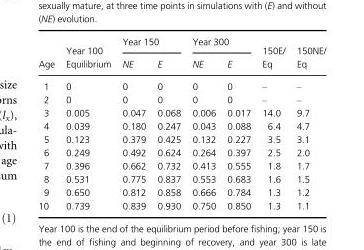table: (37, 36, 325, 210)
table column: (59, 36, 116, 210), (116, 36, 151, 210), (185, 36, 220, 210), (220, 36, 255, 210), (255, 36, 290, 210), (290, 36, 325, 210), (151, 36, 185, 210), (37, 36, 59, 210)
table column header: (37, 36, 325, 74)
table row: (37, 52, 325, 74), (37, 74, 325, 92), (37, 36, 325, 52), (37, 92, 325, 106), (37, 132, 325, 146), (37, 185, 325, 199), (37, 106, 325, 119), (37, 119, 325, 132), (37, 146, 325, 159), (37, 159, 325, 172), (37, 172, 325, 185), (37, 199, 325, 210)
table spanning cell: (59, 36, 116, 74), (255, 36, 290, 74), (290, 36, 325, 74), (185, 36, 255, 52), (116, 36, 185, 52), (37, 36, 59, 74)
